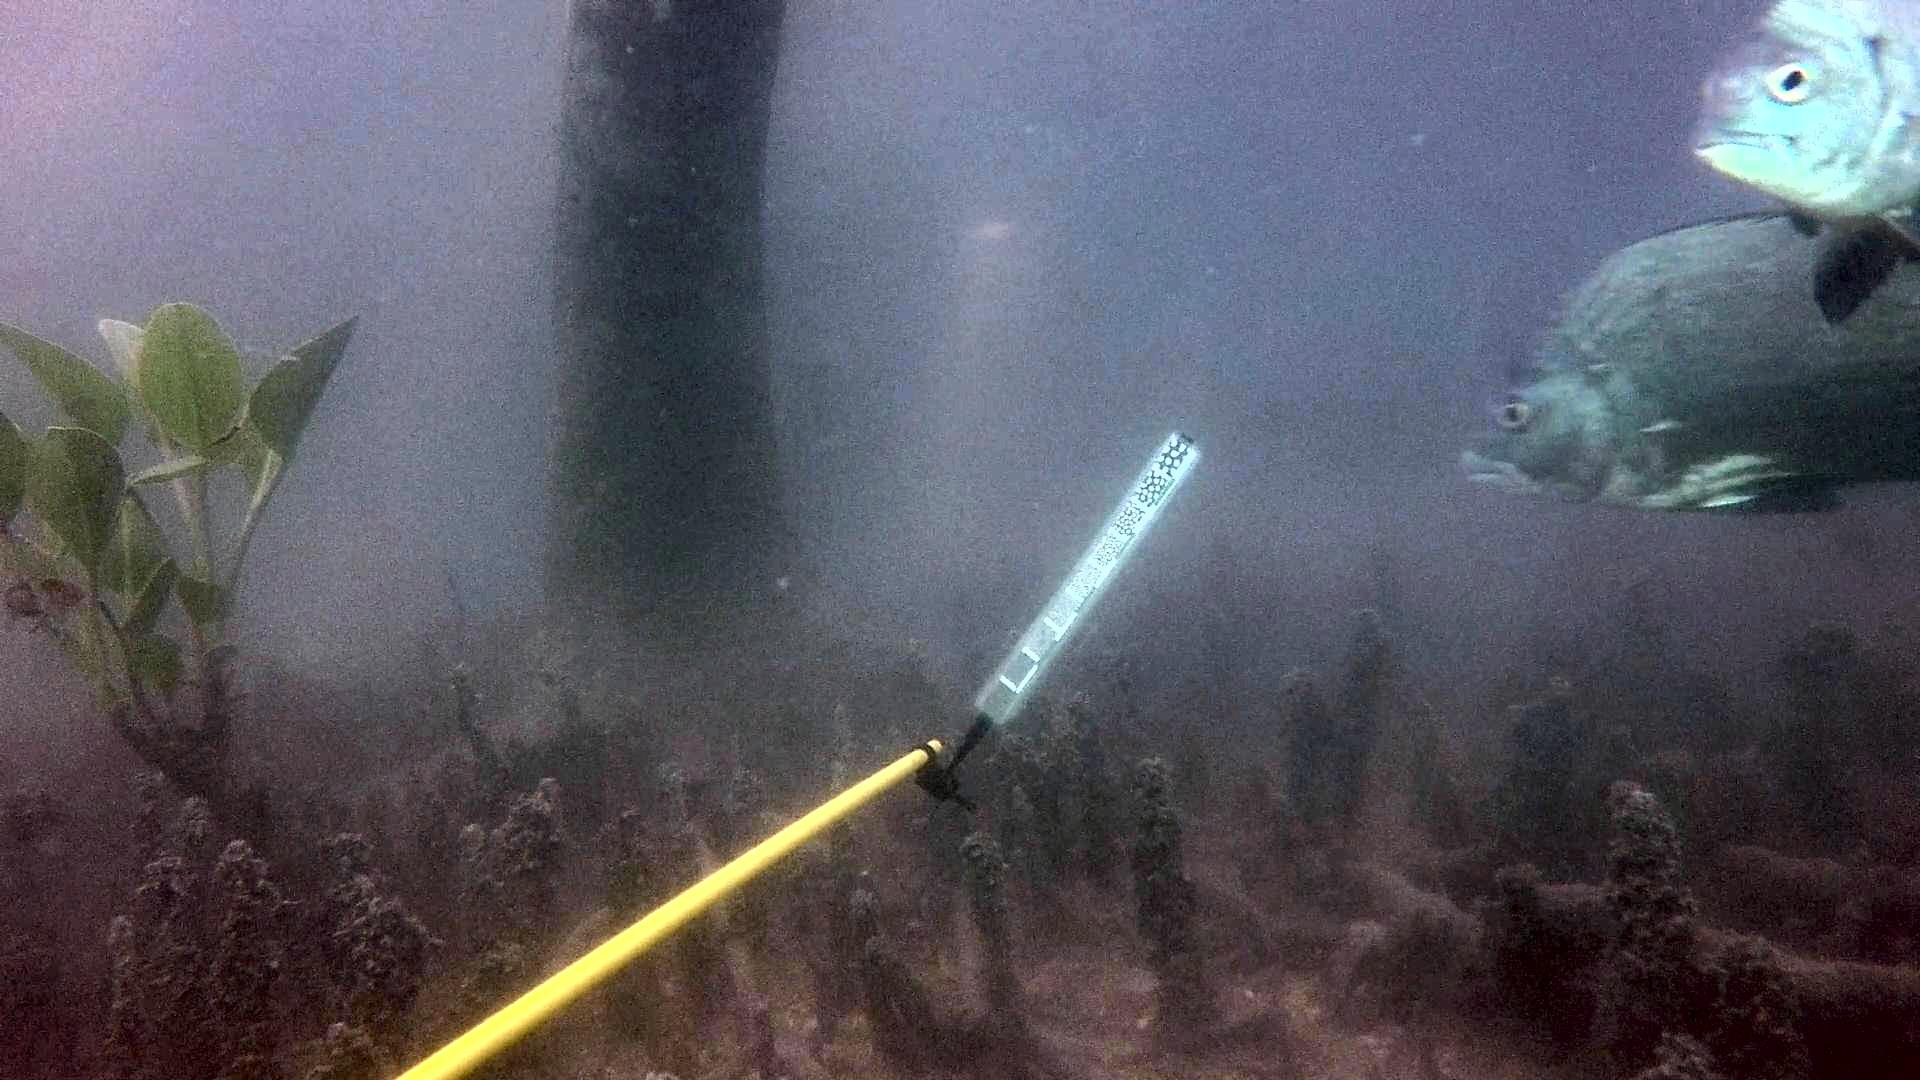acanthopagrus palmaris: (1456, 212, 1920, 530), (1677, 5, 1920, 334)
